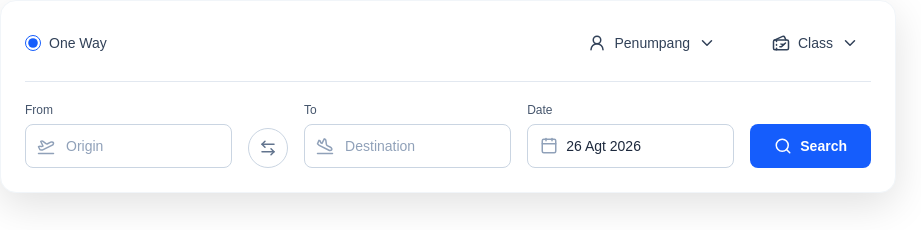
Test: InputFlight (flight) › swaps the from and to values
The image size is (921, 230).
In the field labelled "From": (129, 146) [25,124,232,168], type "Jakarta"
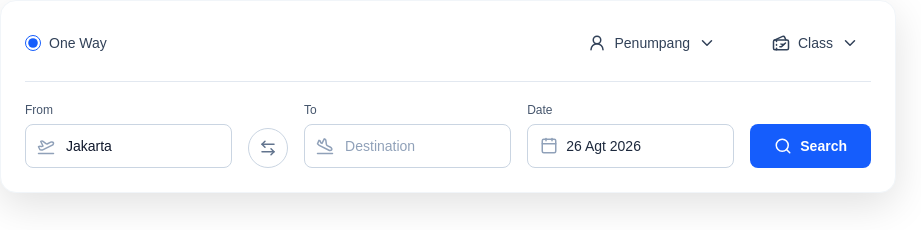
In the field labelled "To": (408, 146) [304,124,511,168], type "Bali"
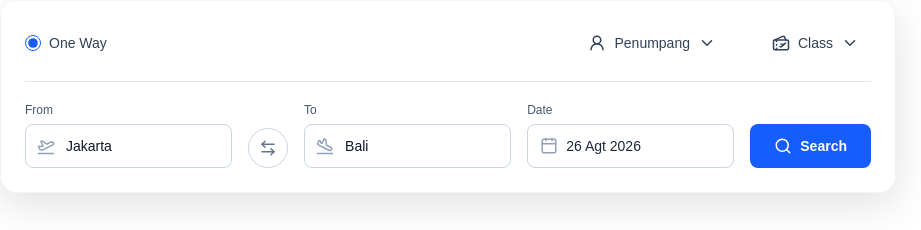
Click the button named "Swap origin and destination": click(268, 148) [248,128,288,168]
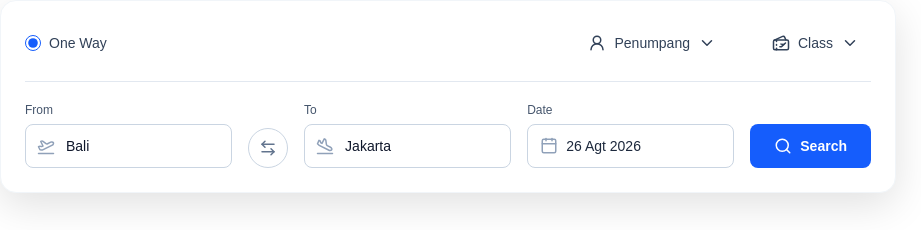
Check: the field labelled "From" holds "Bali", box [25,124,232,168]
Check: the field labelled "To" holds "Jakarta", box [304,124,511,168]
